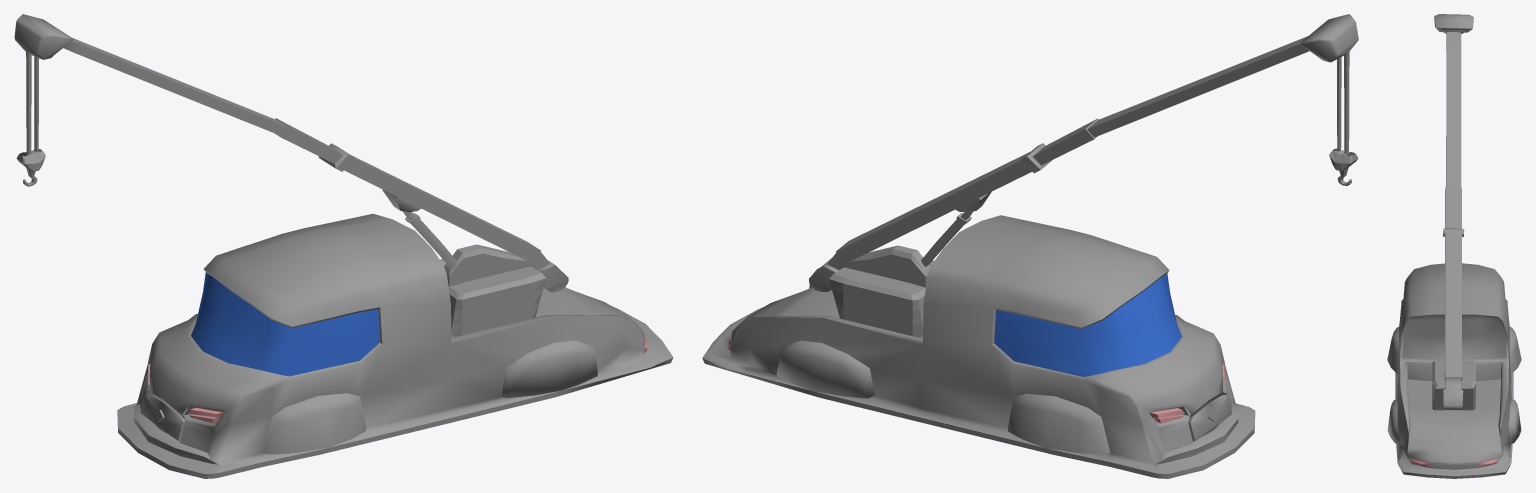
Rendered from coche.FBX.
The picture shows the model from 3 angles, left to right: view 1: azimuth 30°, elevation 25°; view 2: azimuth 150°, elevation 25°; view 3: azimuth 270°, elevation 25°; orthographic projection. The views are drawn at different scales.
Parts seen in each view (by area): view 1: coche; view 2: coche; view 3: coche.
Boxes of the visible parts, x1=… form: coche: x1=14, y1=14, x2=673, y2=478; coche: x1=702, y1=14, x2=1358, y2=478; coche: x1=1387, y1=14, x2=1521, y2=478.
Bounding box in the file's own units: 630 × 435 × 189.
